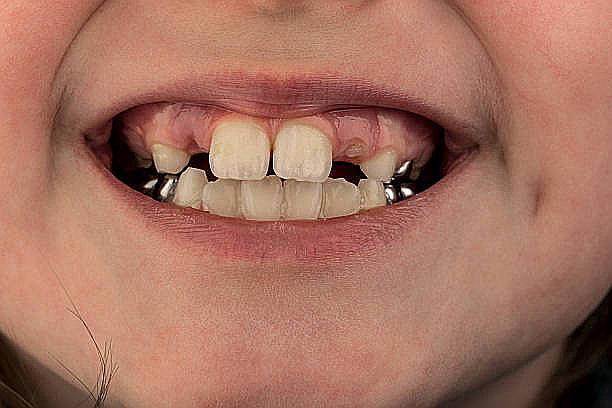Hypodontia: (328, 132, 376, 179), (167, 130, 218, 172)
